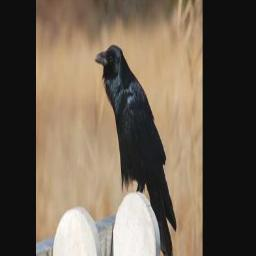Crow: (94, 44, 177, 256)
